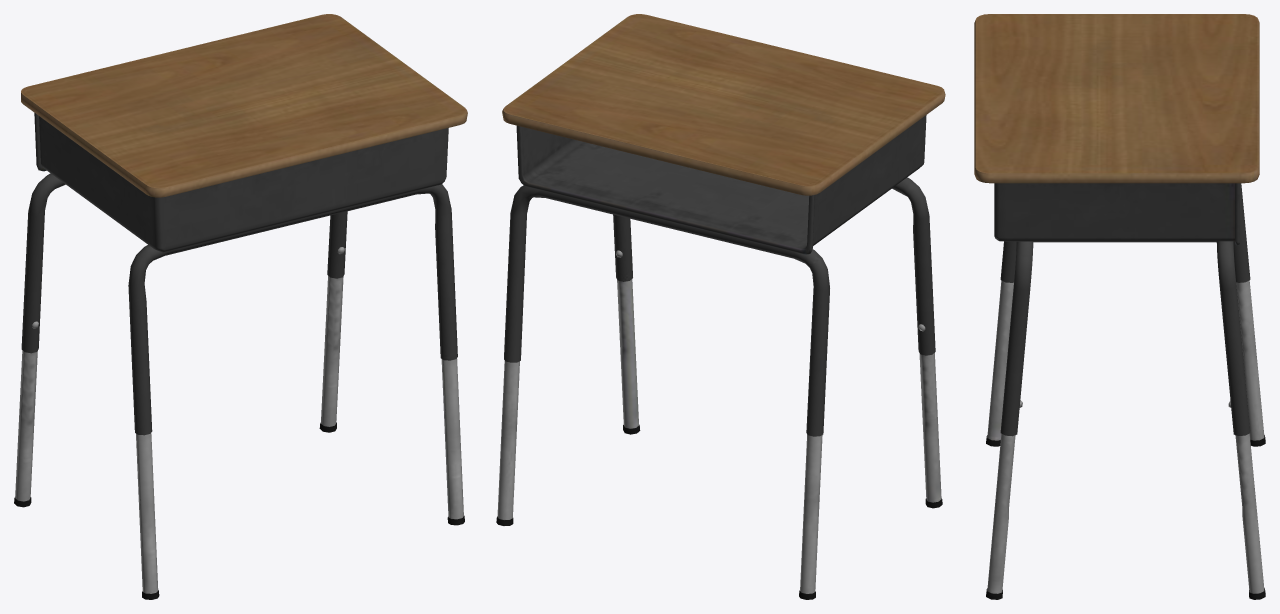
The model's file is SchoolDesk_01.glb.
3 renders of one model, left to right at view 1: azimuth 30°, elevation 25°; view 2: azimuth 150°, elevation 25°; view 3: azimuth 270°, elevation 25°, orthographic. The views are drawn at different scales.
Visible parts, largest first — view 1: SchoolDesk_01; view 2: SchoolDesk_01; view 3: SchoolDesk_01.
Boxes of the visible parts, left/top/right/bottom form: SchoolDesk_01: left=14, top=14, right=467, bottom=599; SchoolDesk_01: left=496, top=14, right=945, bottom=599; SchoolDesk_01: left=974, top=14, right=1265, bottom=599.
Bounding box in the file's own units: 0.7118 × 0.8826 × 0.546.
1 material, 1 textured.
